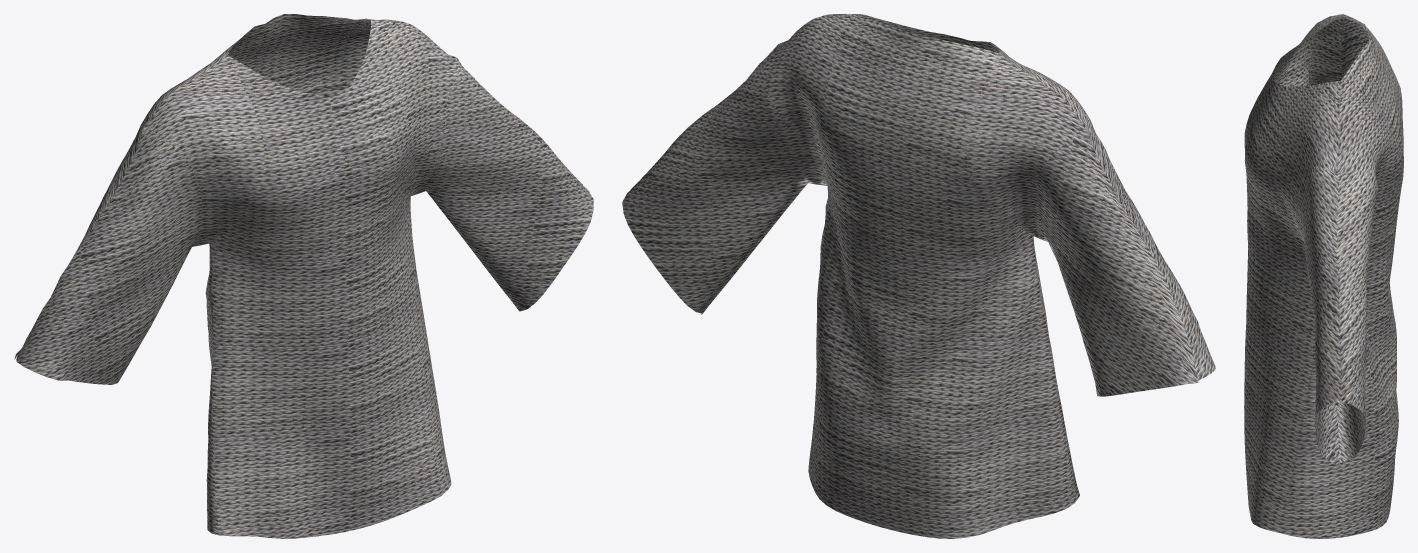
The model's file is Sweater.fbx.
3 views of the same model, side by side, from view 1: azimuth 30°, elevation 25°; view 2: azimuth 150°, elevation 25°; view 3: azimuth 270°, elevation 25° (orthographic). The views are drawn at different scales.
Parts seen in each view (by area): view 1: maglia 4; view 2: maglia 4; view 3: maglia 4.
Boxes of the visible parts, box(x1,y1,x2,y2) form: maglia 4: box(14, 14, 593, 538); maglia 4: box(622, 14, 1215, 538); maglia 4: box(1244, 14, 1403, 538).
Size of the model in its own units: 99.8 by 79.78 by 25.29.
Materials: 1 (1 with a texture image).
